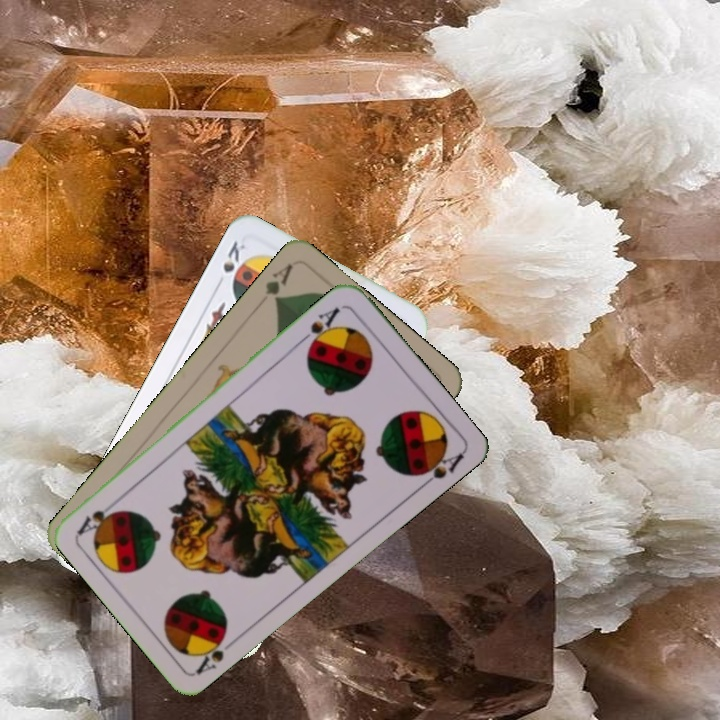GA: (261, 259, 296, 307)
SA: (191, 626, 241, 678), (296, 303, 343, 352)
SK: (212, 236, 249, 291)
